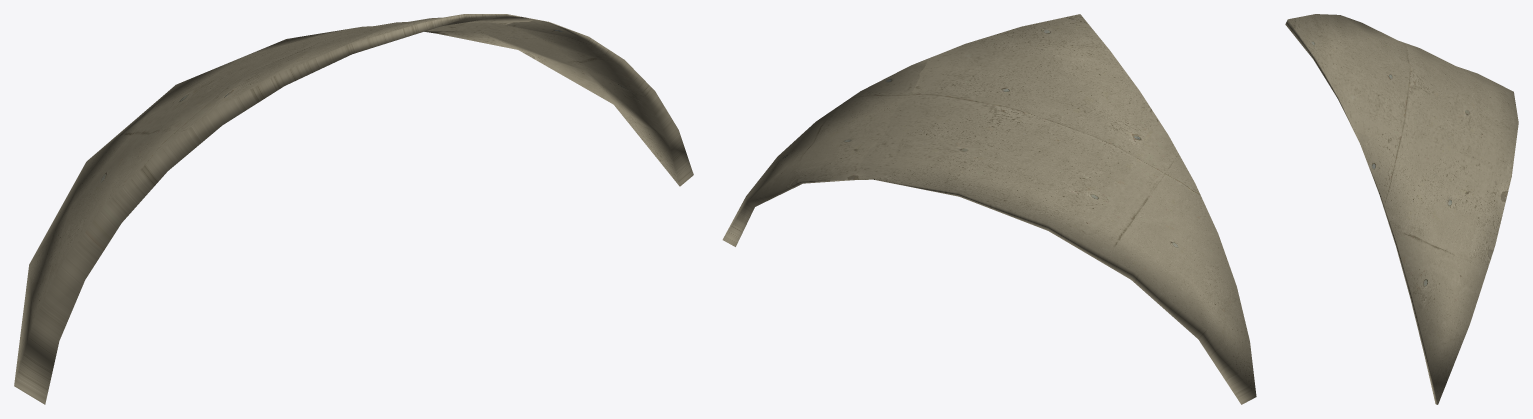
File: roof-bended.fbx
3 renders of one model, left to right at view 1: azimuth 30°, elevation 25°; view 2: azimuth 150°, elevation 25°; view 3: azimuth 270°, elevation 25°, orthographic. The views are drawn at different scales.
Visible parts, largest first — view 1: bended roof.001; view 2: bended roof.001; view 3: bended roof.001.
Part boxes in pixels (x1=…): bended roof.001: x1=14, y1=14, x2=693, y2=404; bended roof.001: x1=722, y1=14, x2=1256, y2=404; bended roof.001: x1=1285, y1=14, x2=1518, y2=404.
Size of the model in its own units: 1656 by 860 by 622.
1 material, 1 textured.
